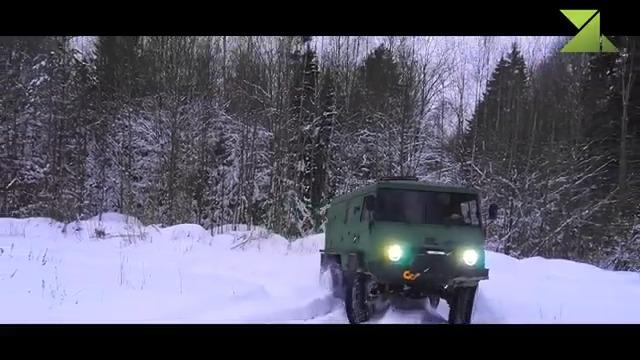MIL_HMMWV: (317, 178, 498, 326)
